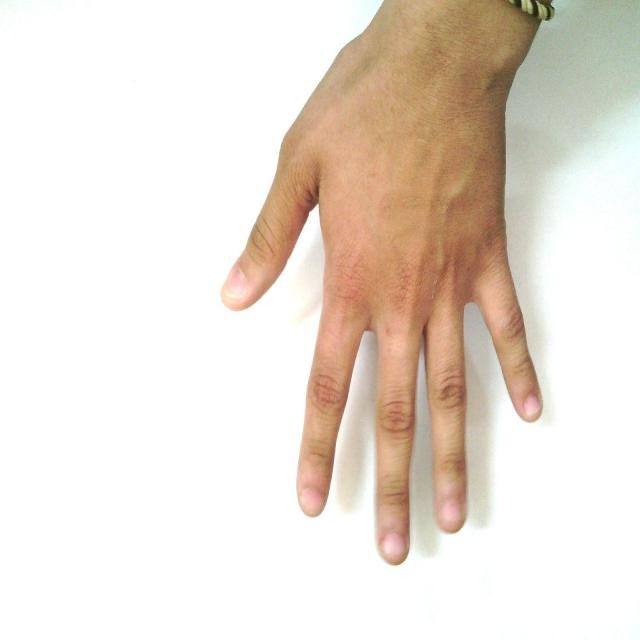others: (220, 1, 573, 563)
